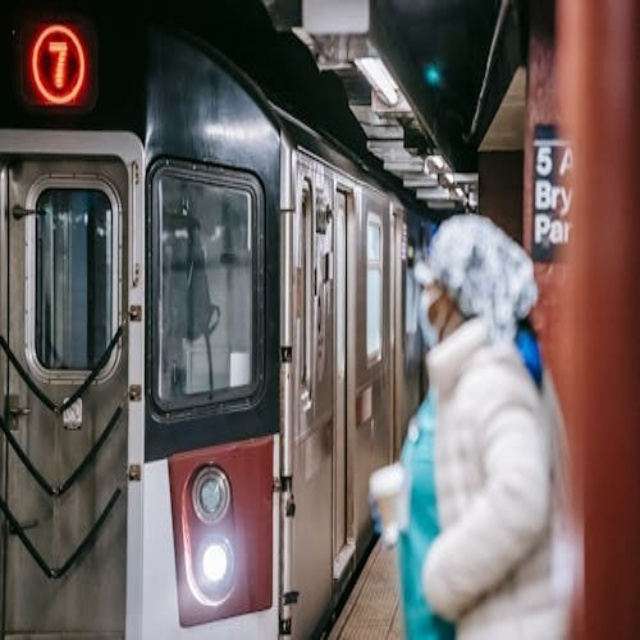Mascara: (417, 282, 441, 349)
